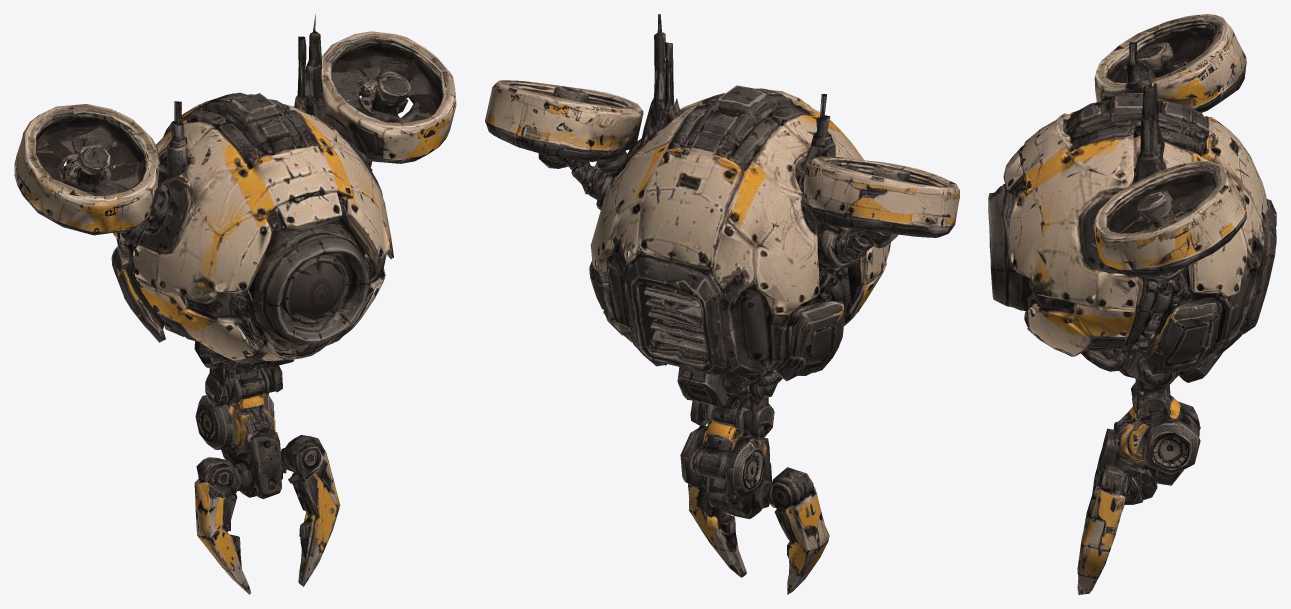
File: flyer.glb
3 views of the same model, side by side, from view 1: azimuth 30°, elevation 25°; view 2: azimuth 150°, elevation 25°; view 3: azimuth 270°, elevation 25° (orthographic). The views are drawn at different scales.
Bounding box in the file's own units: 1.55 × 1.9 × 0.9028.
Materials: 1 (1 with a texture image).
